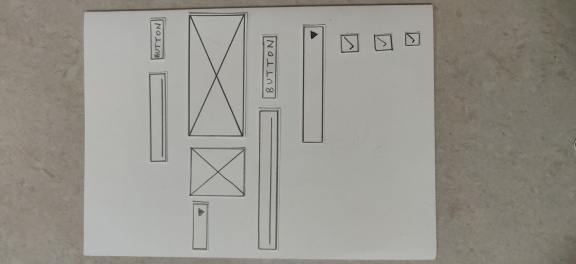button: (260, 34, 278, 100), (147, 18, 167, 60)
checkbox: (339, 33, 359, 52), (372, 34, 394, 51), (404, 31, 421, 48)
dropdown: (299, 23, 324, 147), (191, 202, 209, 250)
img: (187, 11, 247, 138), (189, 144, 245, 197)
text: (256, 108, 280, 251), (148, 73, 170, 163)
